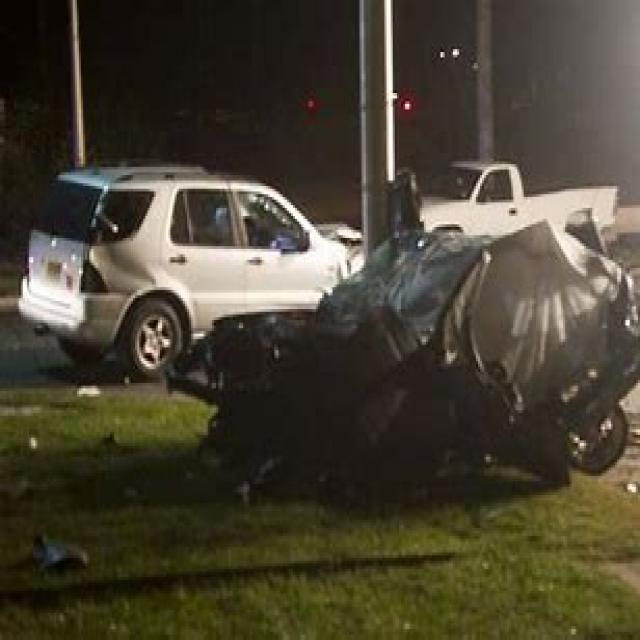Accident: (175, 138, 629, 508)
